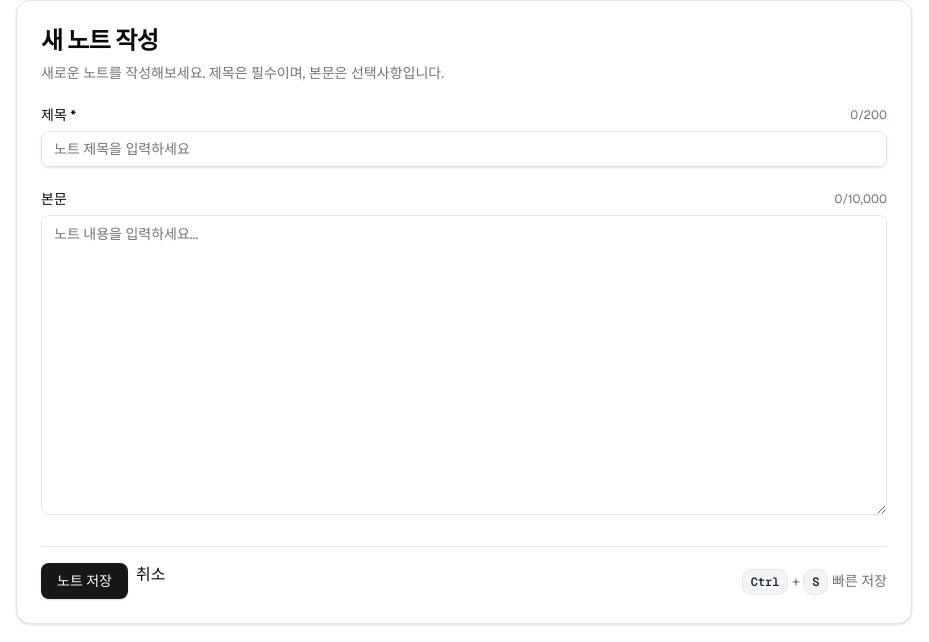
Test case: NoteForm › shows character count for title and content
The width and height of the screenshot is (929, 642).
Type "abc" into the field labelled "제목 *".
click(464, 149); type("abc")  # box [41,131,887,167]
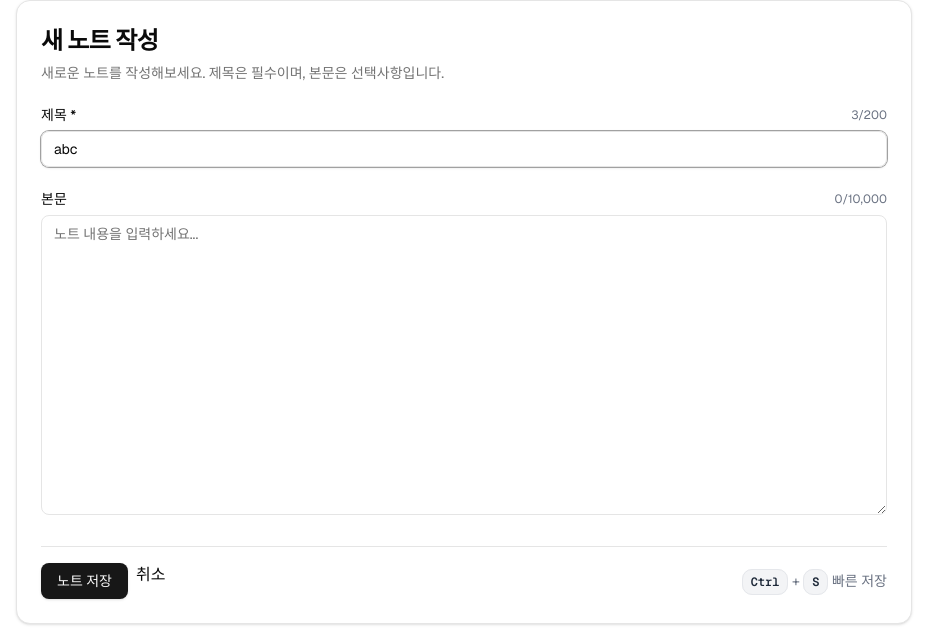
Type "abcde" into the text box labelled "본문".
click(464, 365); type("abcde")  # box [41,215,887,515]
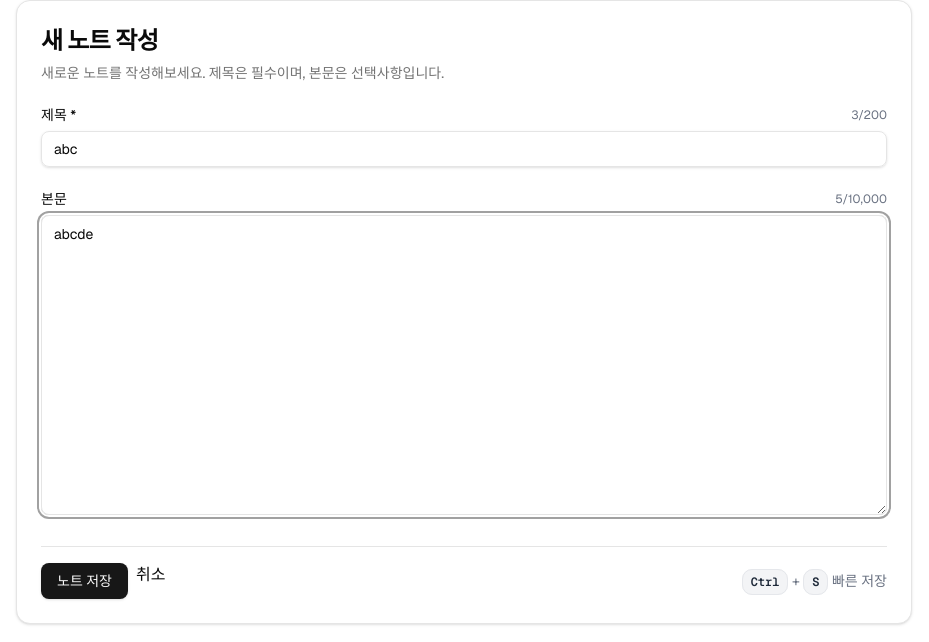
Expected: the text "3/200" is shown, [851,107,887,123]
Expected: the text "5/10,000" is shown, [835,191,887,207]
